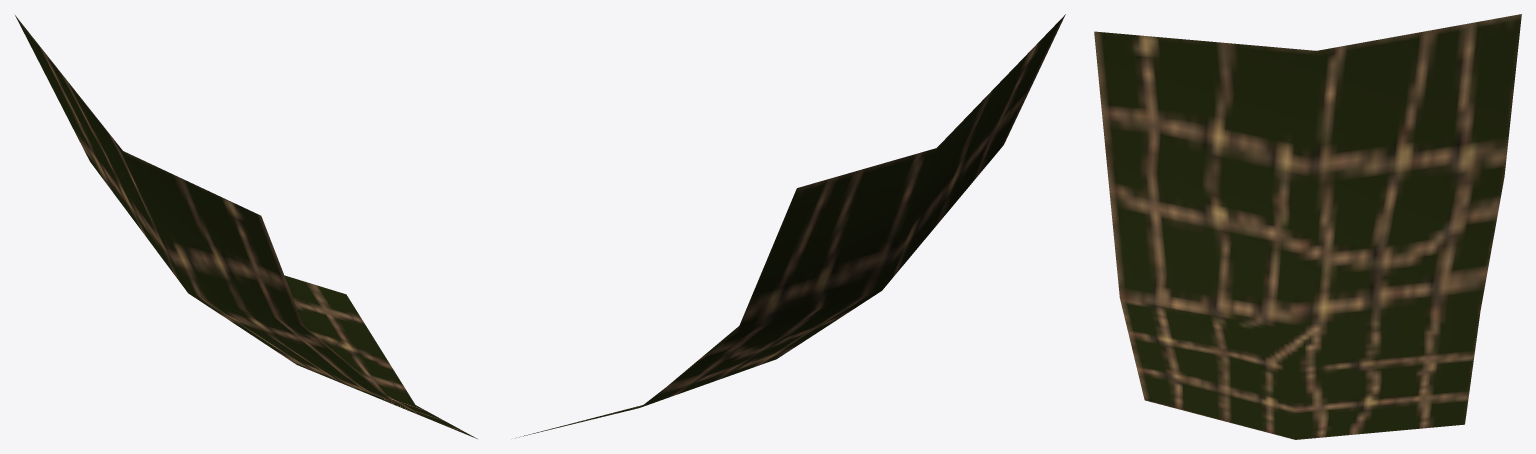
3 views of the same model, side by side, from view 1: azimuth 30°, elevation 25°; view 2: azimuth 150°, elevation 25°; view 3: azimuth 270°, elevation 25° (orthographic). The views are drawn at different scales.
Visible parts, largest first — view 1: a39; view 2: a39; view 3: a39.
Boxes of the visible parts, x1,y1,x2,y2 form: a39: (15, 15, 477, 438); a39: (515, 14, 1065, 438); a39: (1094, 14, 1521, 439).
Bounding box in the file's own units: 516 × 576 × 716.
1 material, 1 textured.
